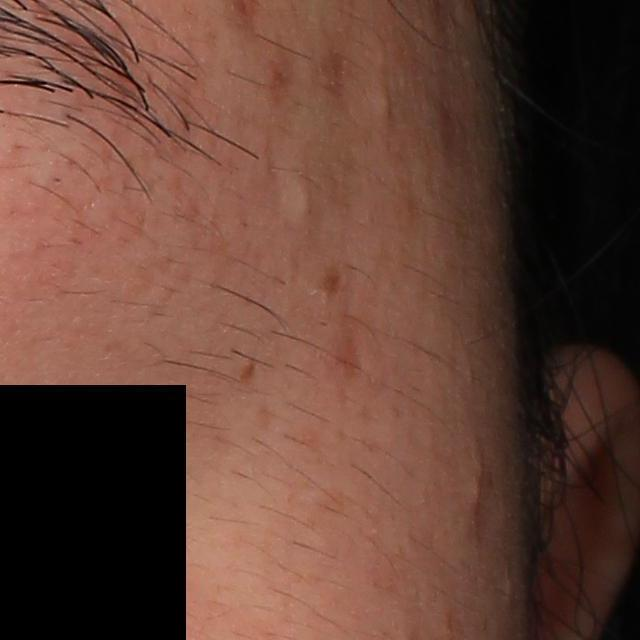comedo: (278, 161, 329, 236), (378, 90, 394, 118)
melasma: (316, 263, 350, 302), (238, 360, 257, 391)
